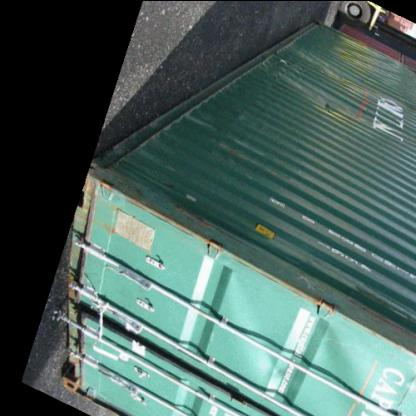Damage: (290, 258, 416, 414), (277, 32, 415, 134), (100, 168, 228, 262)
